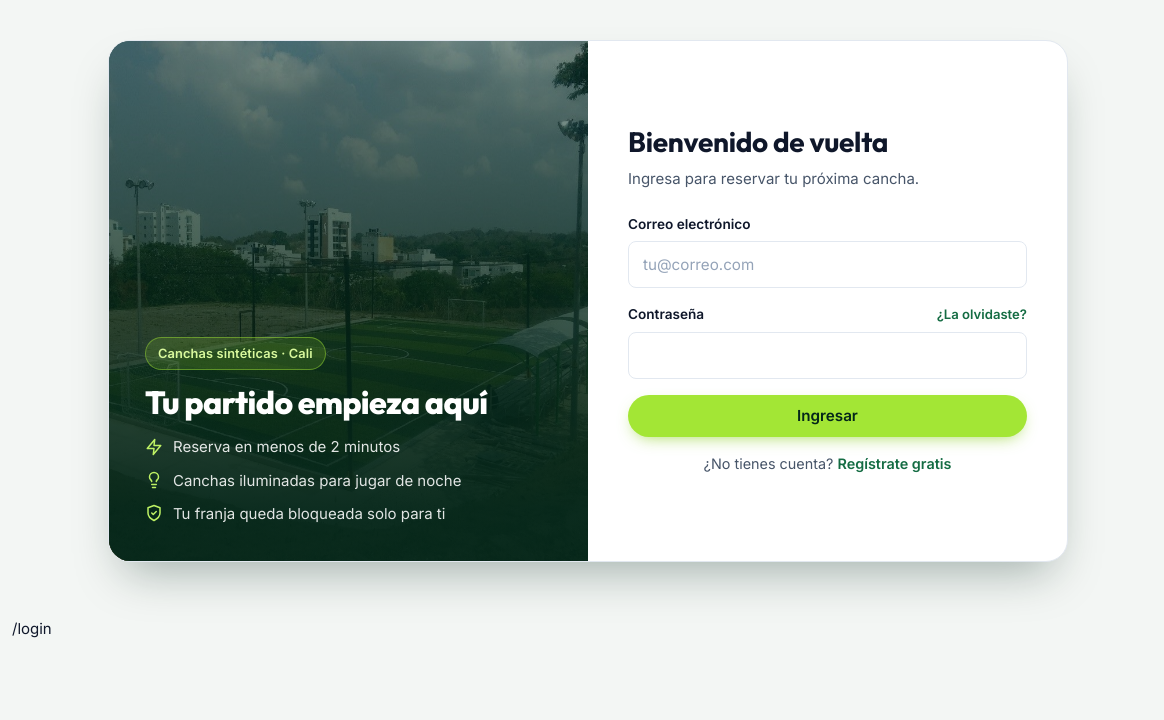
Test case: LoginPage › deshabilita el botón mientras ingresa
Type "ana@correo.com" into the field labelled "Correo electrónico".
click(828, 265); type("ana@correo.com")  # box left=628, top=241, right=1027, bottom=288
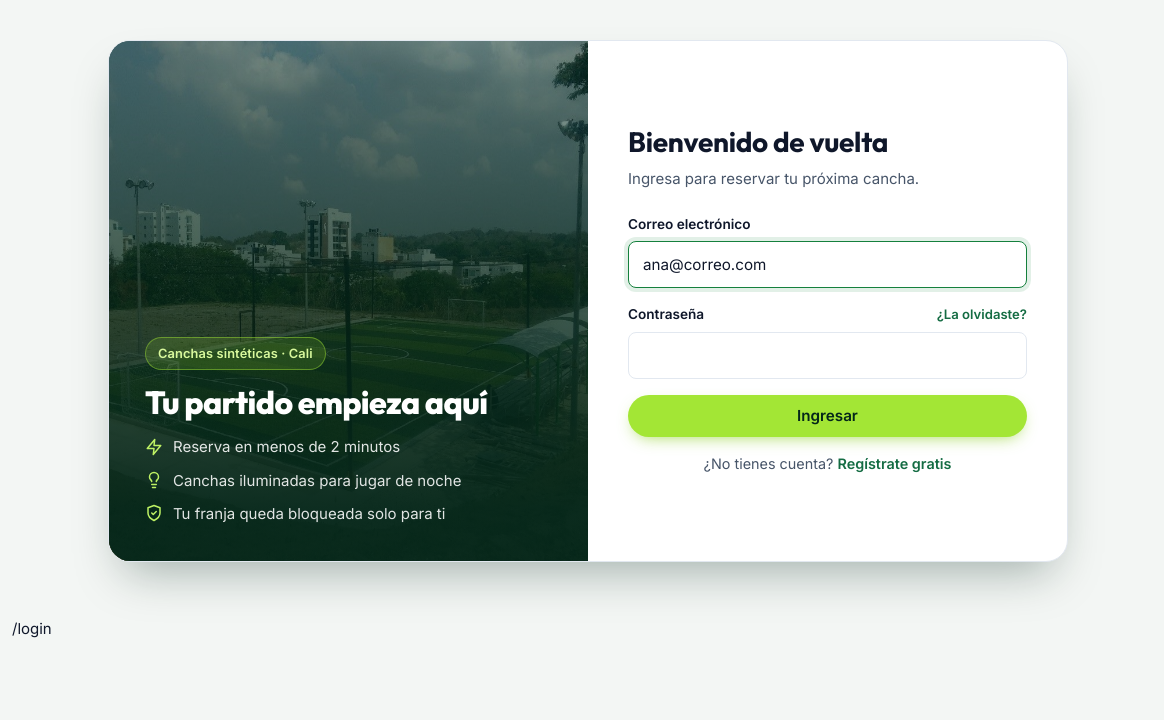
Type "Clave1234" into the password field labelled "Contraseña".
click(828, 355); type("Clave1234")  # box left=628, top=332, right=1027, bottom=379
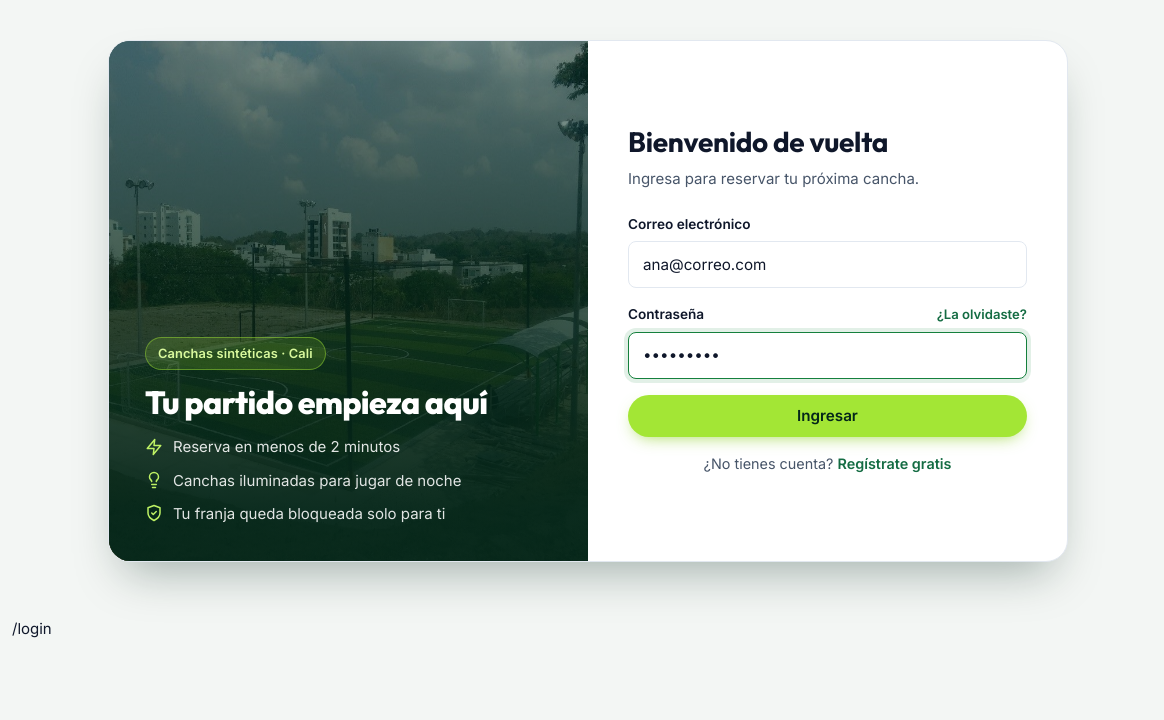
Click the button "Ingresar".
click(828, 416)  # box left=628, top=395, right=1027, bottom=437
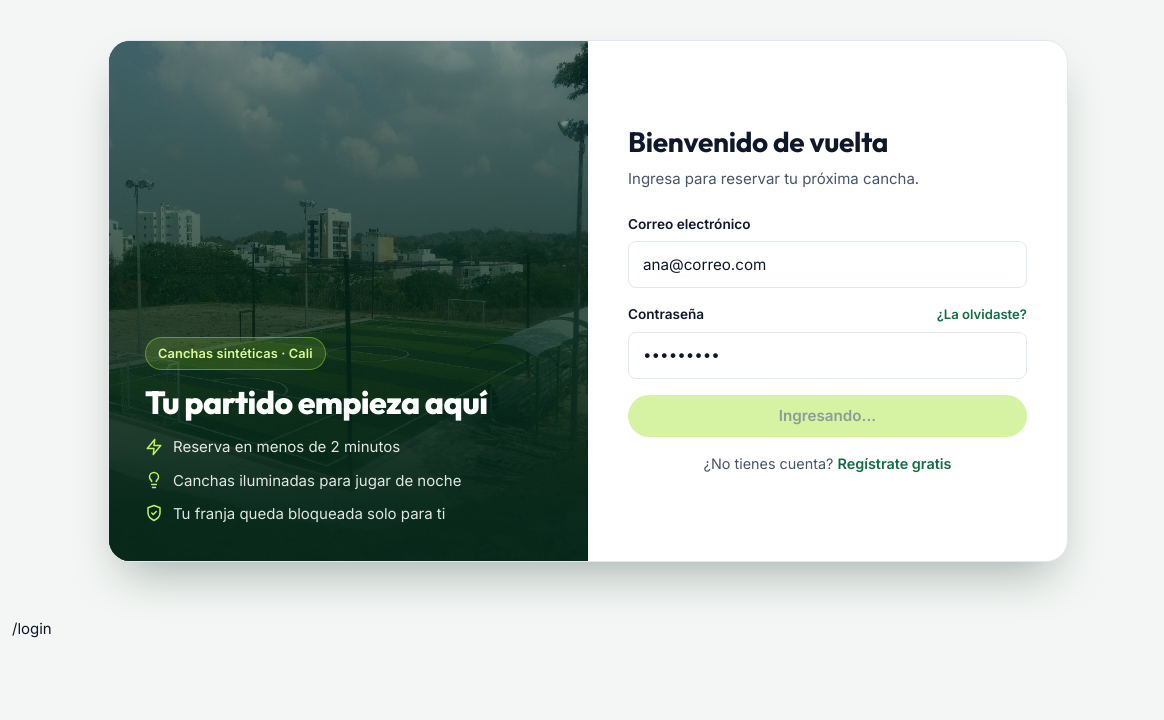
Expected: the button "Ingresando..." is disabled, left=628, top=395, right=1027, bottom=437
